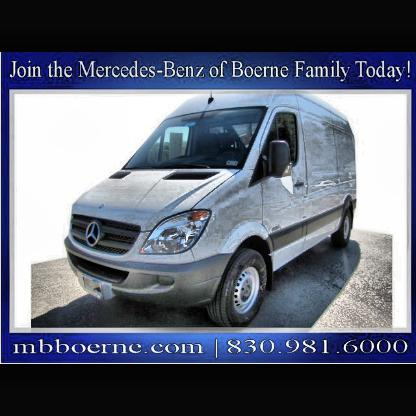Mercedes-Benz Sprinter Van 2012: (61, 92, 360, 327)
